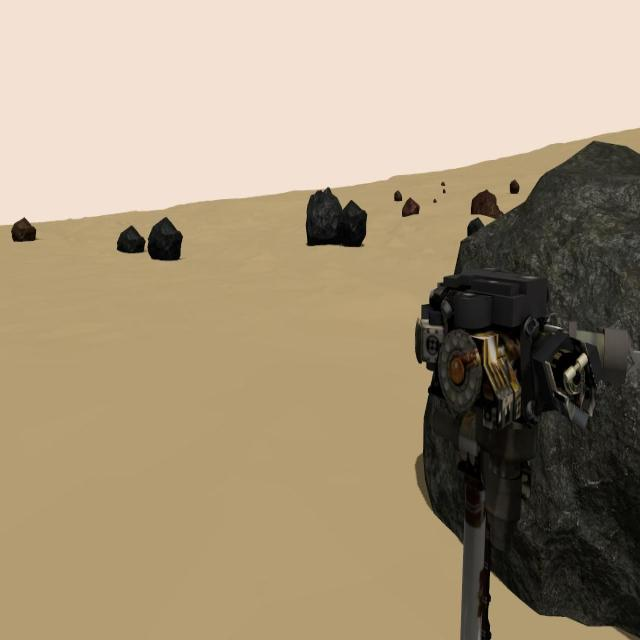rock: (424, 142, 640, 636), (306, 186, 342, 245), (148, 217, 182, 261), (342, 200, 366, 246), (470, 189, 504, 217), (117, 225, 145, 253), (11, 216, 36, 242), (402, 196, 419, 216), (467, 218, 485, 234), (508, 179, 520, 195), (394, 190, 402, 200), (432, 198, 437, 203), (442, 188, 446, 193), (441, 180, 445, 184)
